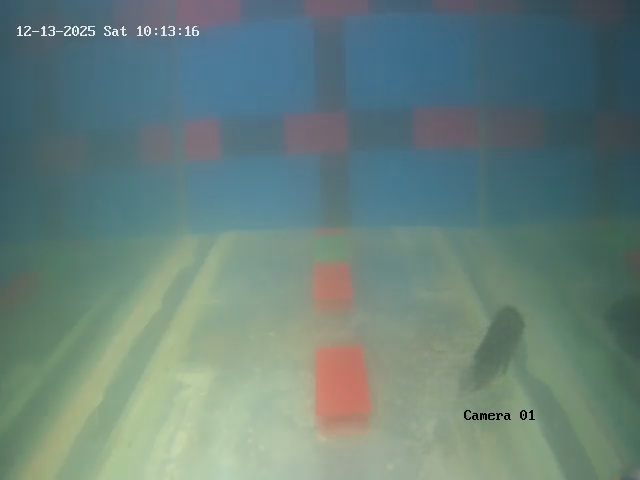fish: (467, 302, 530, 396)
